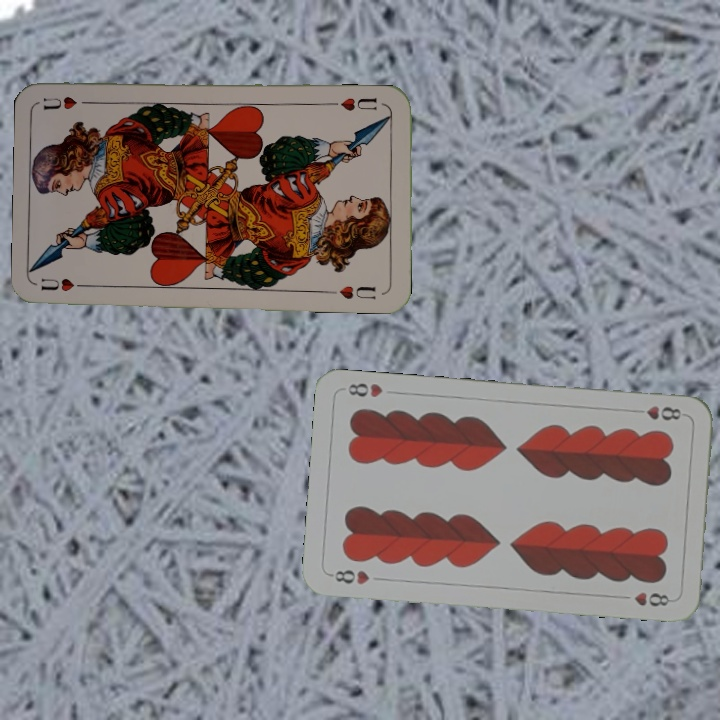H8: (629, 402, 684, 423), (326, 566, 372, 587)
HU: (37, 274, 95, 294), (329, 93, 380, 113)
